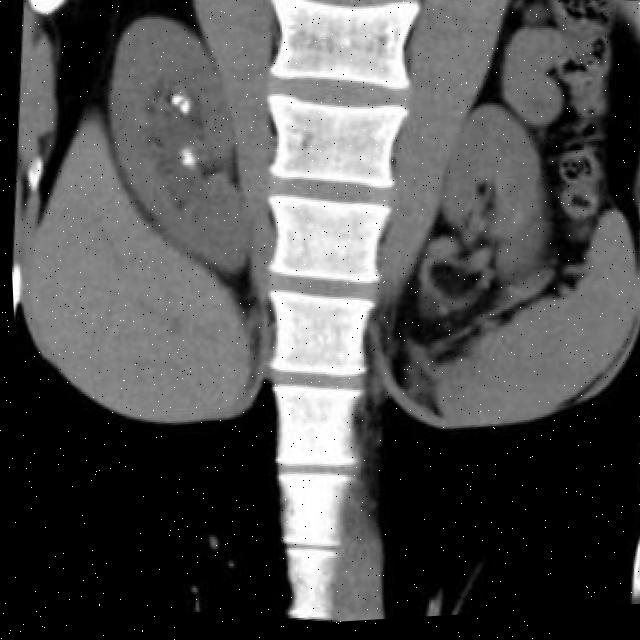Tas_Var: (179, 147, 198, 176), (177, 102, 196, 121), (170, 92, 185, 110)
